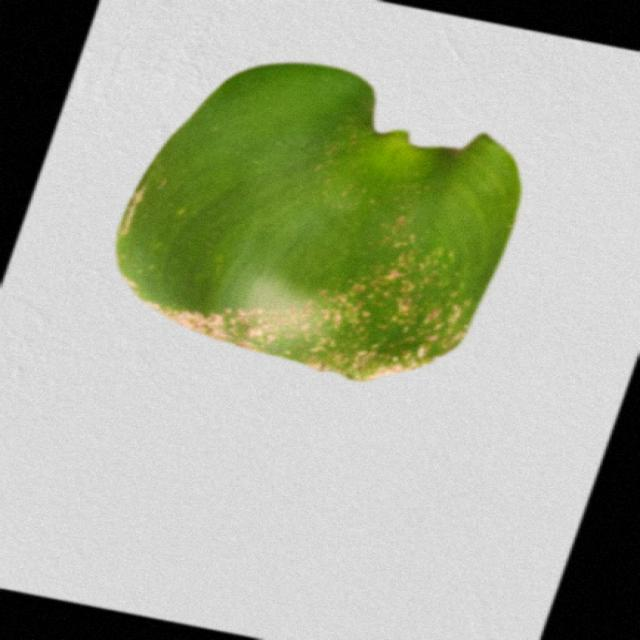daun berpenyakit bercak: (117, 64, 520, 381)
